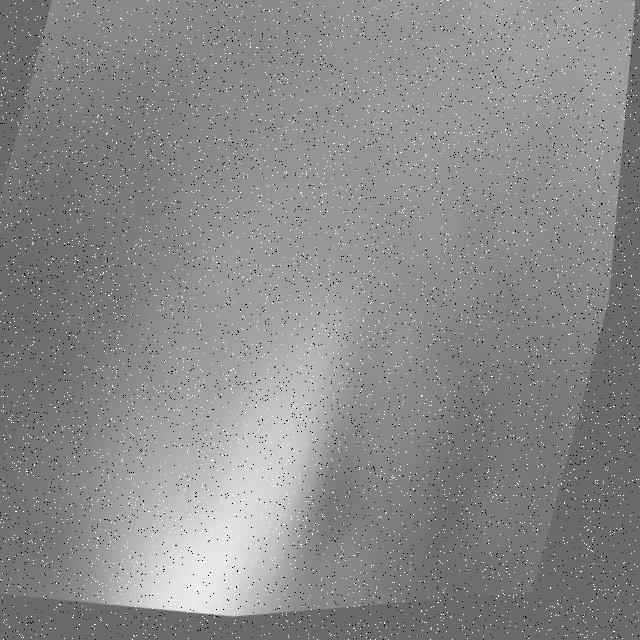person: (74, 176, 441, 633)
